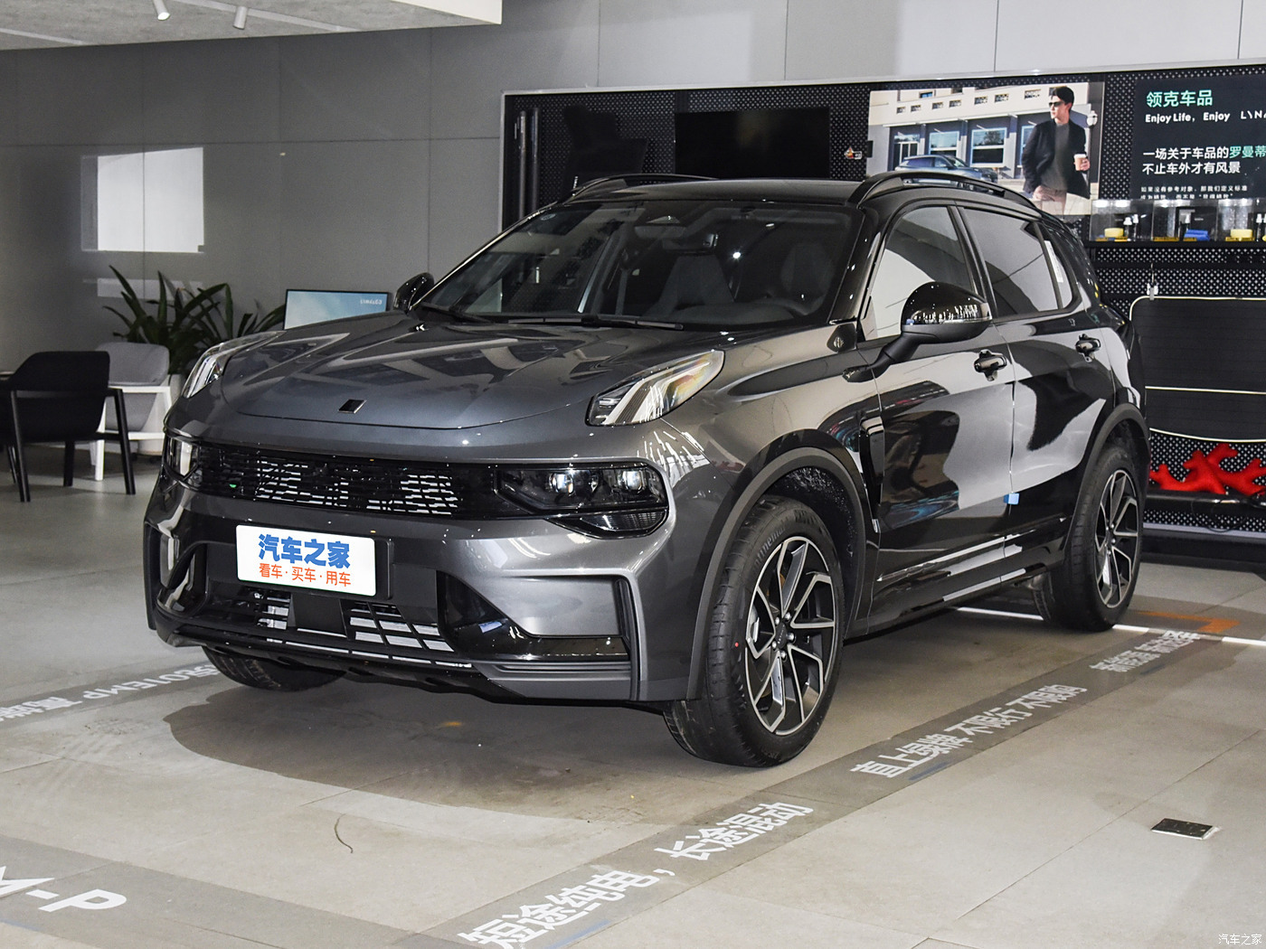LINK&CO: (337, 399, 366, 413)
